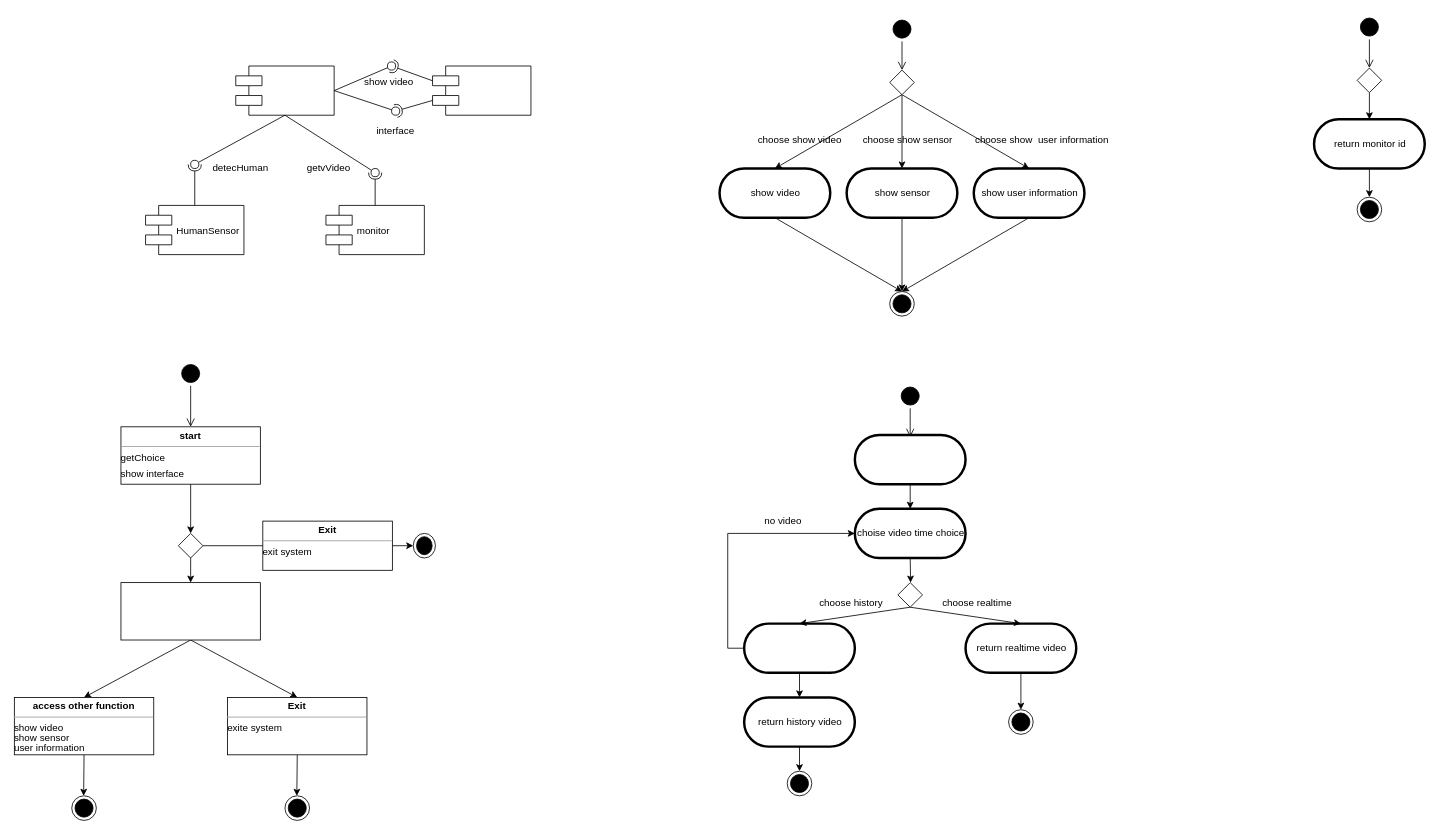
Image size: 1440x835. Some labels were removed from this diagram. The centre of each missing label's shape, as x and y in pixels:
choose date: the point at 799,648
Contorl panel: the point at 481,90
get minitor id: the point at 909,459
show video alarm homeowner get password exit system: the point at 190,611
System: the point at 284,90
